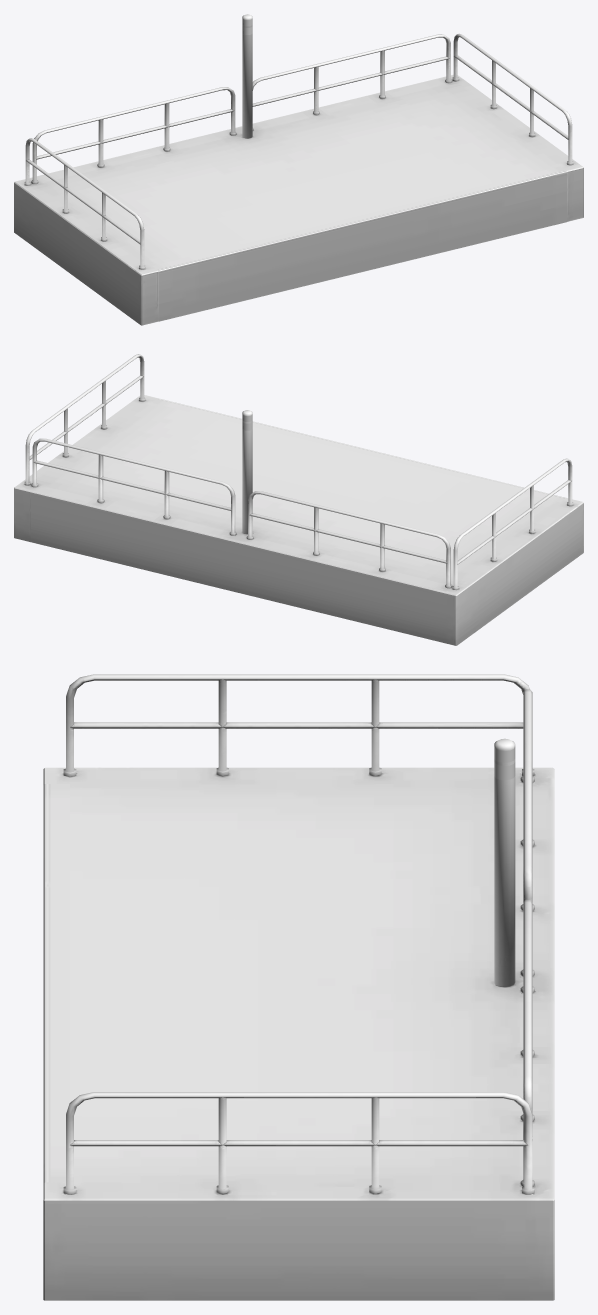
The model's file is cargo_07.glb.
The picture shows the model from 3 angles, top to bottom: view 1: azimuth 30°, elevation 25°; view 2: azimuth 150°, elevation 25°; view 3: azimuth 270°, elevation 25°; orthographic projection. The views are drawn at different scales.
Parts seen in each view (by area): view 1: base, baseLine, handrail02, handrail03, handrail04, handrail01, lightPole; view 2: base, baseLine, handrail03, handrail02, handrail01, handrail04, lightPole; view 3: base, baseLine, handrail04, handrail01, lightPole, handrail03, handrail02.
Boxes of the visible parts, <box> form: base: <box>14,74,583,325</box>; baseLine: <box>152,166,566,321</box>; handrail02: <box>31,87,236,183</box>; handrail03: <box>252,34,452,130</box>; handrail04: <box>452,33,573,165</box>; handrail01: <box>24,138,145,269</box>; lightPole: <box>242,14,252,138</box>; base: <box>14,395,583,645</box>; baseLine: <box>152,398,565,502</box>; handrail03: <box>31,438,236,535</box>; handrail02: <box>246,491,452,588</box>; handrail01: <box>452,458,573,589</box>; handrail04: <box>24,354,145,485</box>; lightPole: <box>242,410,252,533</box>; base: <box>43,767,554,1300</box>; baseLine: <box>43,784,69,1183</box>; handrail04: <box>63,1092,534,1194</box>; handrail01: <box>63,674,534,776</box>; lightPole: <box>494,738,515,986</box>; handrail03: <box>520,899,534,1186</box>; handrail02: <box>520,689,534,975</box>.
Bounding box in the file's own units: 5.92 × 2.19 × 2.96.
Materials: 9 (7 with a texture image).
